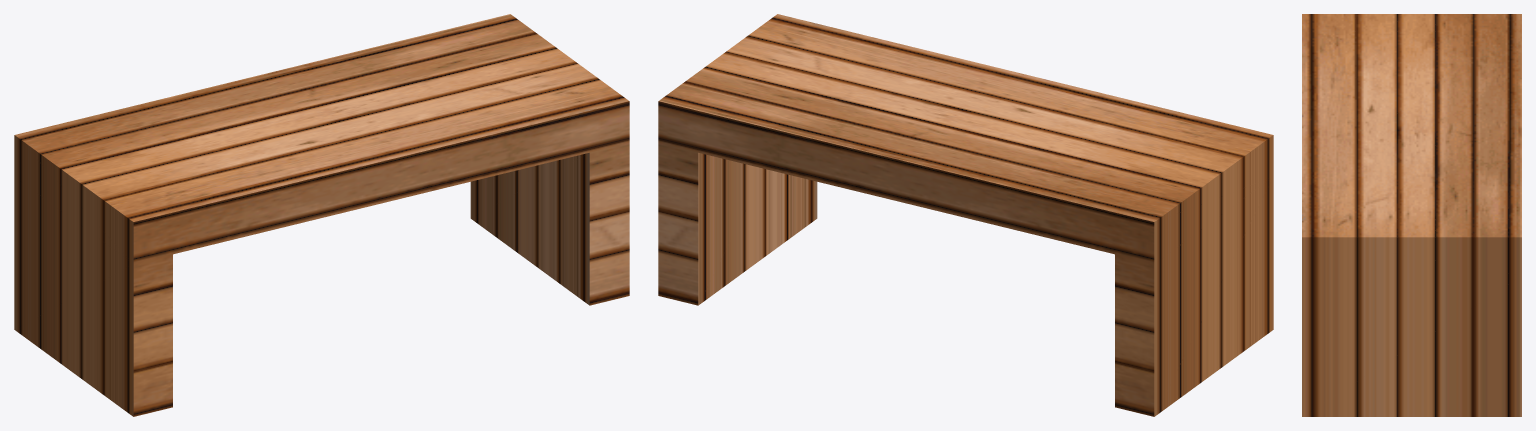
Rendered from bench.fbx.
The picture shows the model from 3 angles, left to right: view 1: azimuth 30°, elevation 25°; view 2: azimuth 150°, elevation 25°; view 3: azimuth 270°, elevation 25°; orthographic projection. The views are drawn at different scales.
Parts seen in each view (by area): view 1: Banco; view 2: Banco; view 3: Banco.
Part boxes in pixels (x1=…): Banco: x1=14, y1=14, x2=629, y2=416; Banco: x1=658, y1=14, x2=1273, y2=416; Banco: x1=1302, y1=14, x2=1521, y2=416.
Bounding box in the file's own units: 481 × 181 × 200.
1 material, 1 textured.
